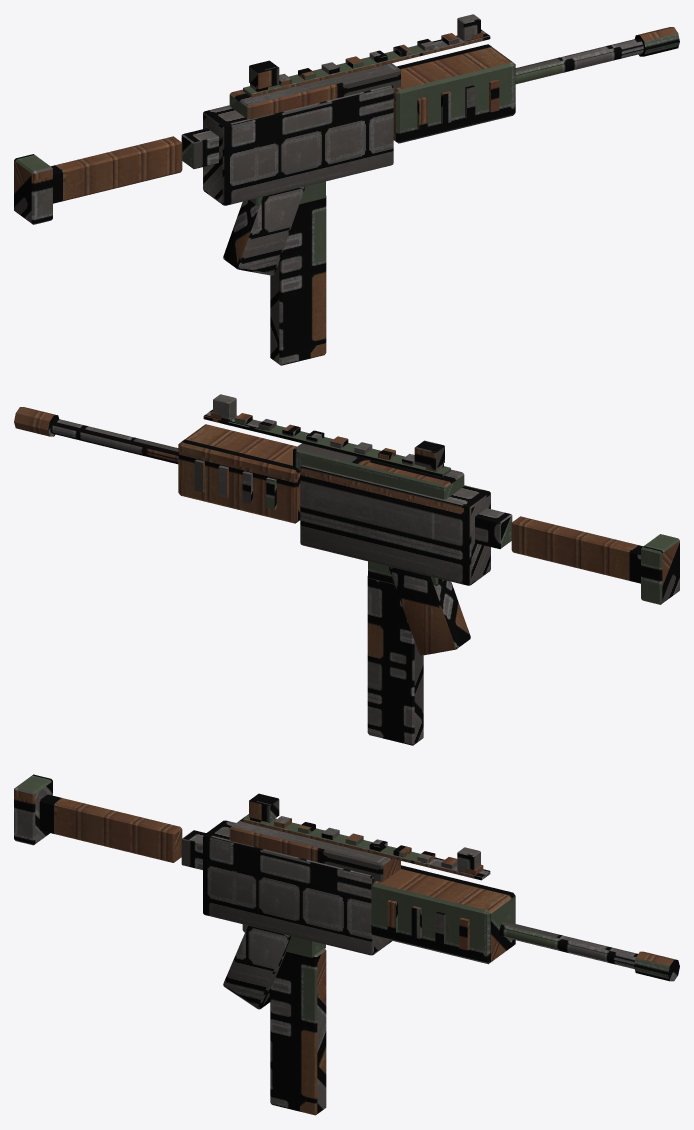
Rendered from weapon_smg.glb.
The picture shows the model from 3 angles, top to bottom: view 1: azimuth 30°, elevation 25°; view 2: azimuth 150°, elevation 25°; view 3: azimuth 330°, elevation 25°; orthographic projection.
Parts seen in each view (by area): view 1: Body, DefaultStock, DefaultMag, IronSights, DefaultMuzzle; view 2: Body, DefaultStock, DefaultMag, IronSights, DefaultMuzzle; view 3: Body, DefaultMag, DefaultStock, IronSights, DefaultMuzzle.
Part boxes in pixels (left/top/right/bottom): Body: left=203, top=29, right=643, bottom=275; DefaultStock: left=14, top=128, right=218, bottom=224; DefaultMag: left=270, top=196, right=326, bottom=365; IronSights: left=249, top=14, right=480, bottom=89; DefaultMuzzle: left=635, top=27, right=679, bottom=56; Body: left=50, top=409, right=490, bottom=655; DefaultStock: left=475, top=508, right=679, bottom=604; DefaultMag: left=367, top=576, right=423, bottom=745; IronSights: left=213, top=394, right=444, bottom=469; DefaultMuzzle: left=14, top=407, right=58, bottom=436; Body: left=203, top=814, right=637, bottom=1009; DefaultMag: left=270, top=948, right=326, bottom=1115; DefaultStock: left=14, top=774, right=205, bottom=869; IronSights: left=249, top=793, right=480, bottom=872; DefaultMuzzle: left=634, top=951, right=679, bottom=981.
Size of the model in its own units: 0.7625 by 0.335 by 0.064.
Materials: 1 (1 with a texture image).
